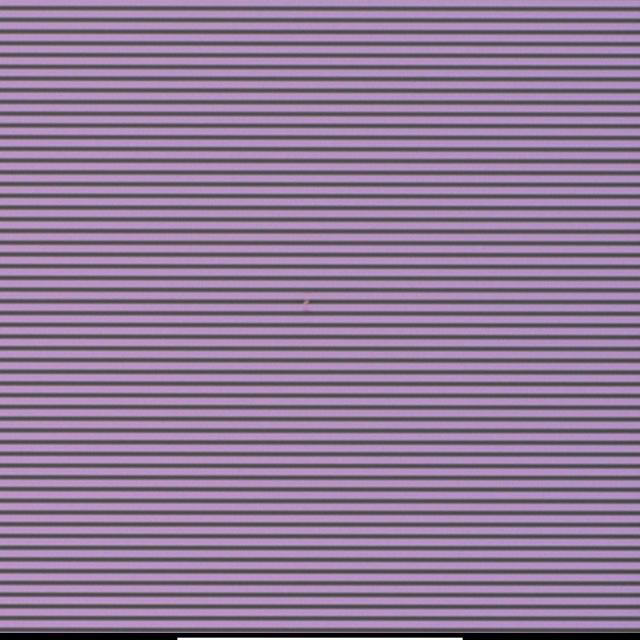03_intrusion: (293, 294, 316, 315)
